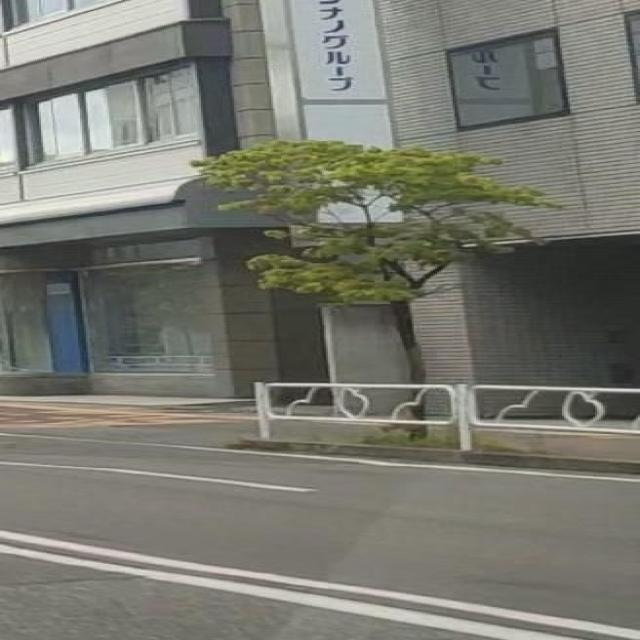dogwood: (187, 140, 567, 442)
